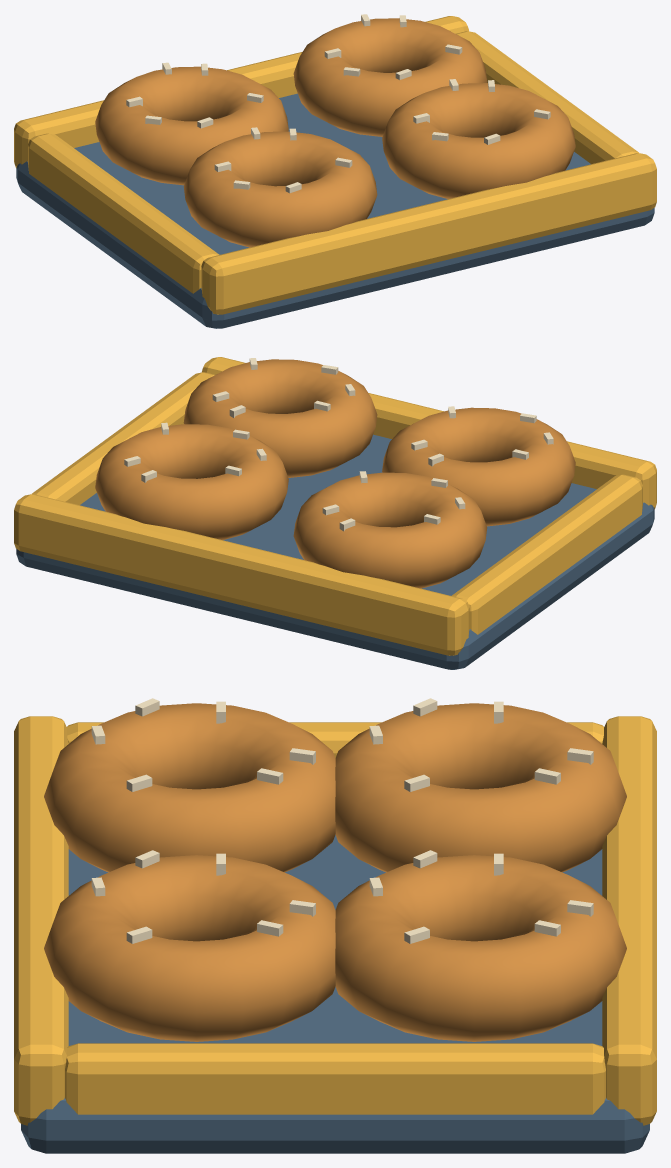
File: cache_donuts.glb
3 renders of one model, top to bottom at view 1: azimuth 30°, elevation 25°; view 2: azimuth 150°, elevation 25°; view 3: azimuth 270°, elevation 25°, orthographic. The views are drawn at different scales.
Parts seen in each view (by area): view 1: Donut, Long rim, Tray base, Binary sugar; view 2: Donut, Long rim, Tray base, Binary sugar; view 3: Donut, Long rim, Tray base, Binary sugar.
Boxes of the visible parts, x1,y1,x2,y2 form: Donut: [95, 18, 575, 247]; Long rim: [14, 16, 656, 314]; Tray base: [16, 93, 654, 328]; Binary sugar: [126, 14, 550, 193]; Donut: [95, 359, 575, 588]; Long rim: [14, 357, 656, 655]; Tray base: [16, 434, 654, 669]; Binary sugar: [124, 358, 553, 531]; Donut: [44, 703, 626, 1041]; Long rim: [14, 716, 656, 1125]; Tray base: [21, 835, 649, 1153]; Binary sugar: [91, 698, 593, 943].
Bounding box in the file's own units: 1 × 0.23 × 0.7871.
